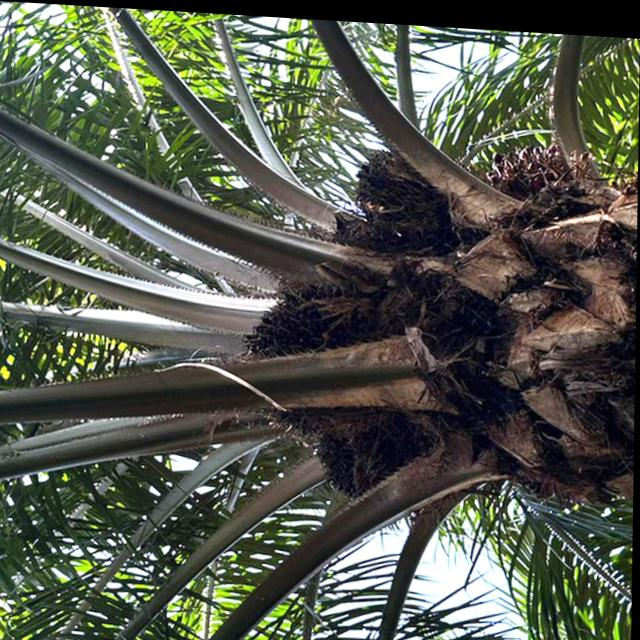ripe: (336, 128, 474, 259), (253, 274, 352, 436), (301, 396, 412, 505)
